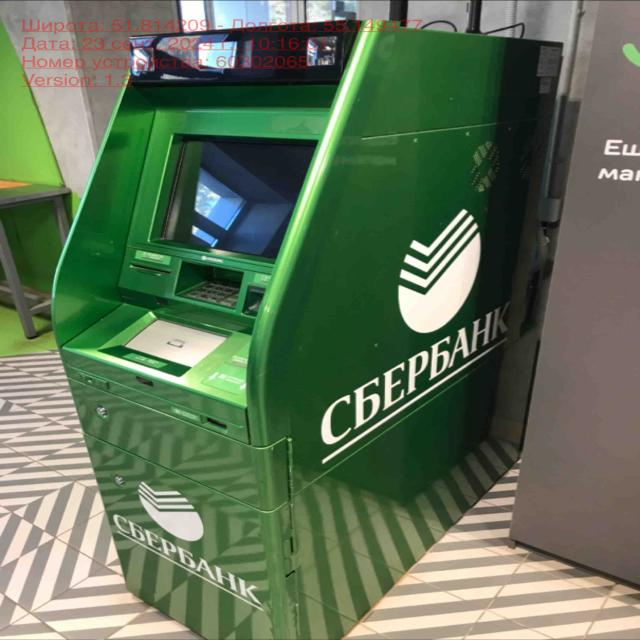bank: (60, 22, 565, 640)
